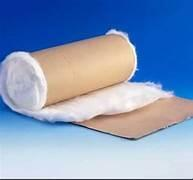cotton: (0, 52, 171, 121), (22, 82, 171, 121)
